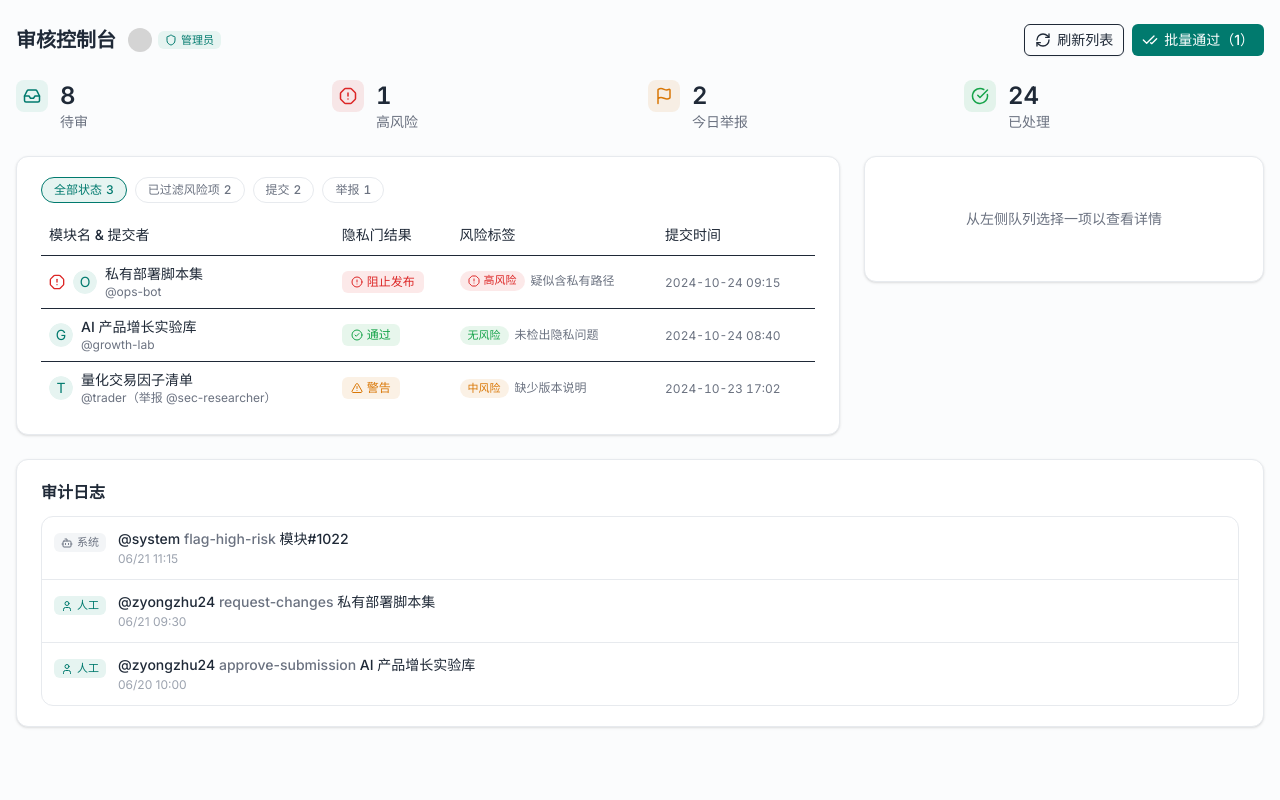
Test case: AdminConsole（PAGE-080~085 集成） › 选中 pass 行驱动详情面板并显示 Manifest 摘要与处置区
The image size is (1280, 800).
Click the text "AI 产品增长实验库" at (139, 326), box 81,316 -> 196,336
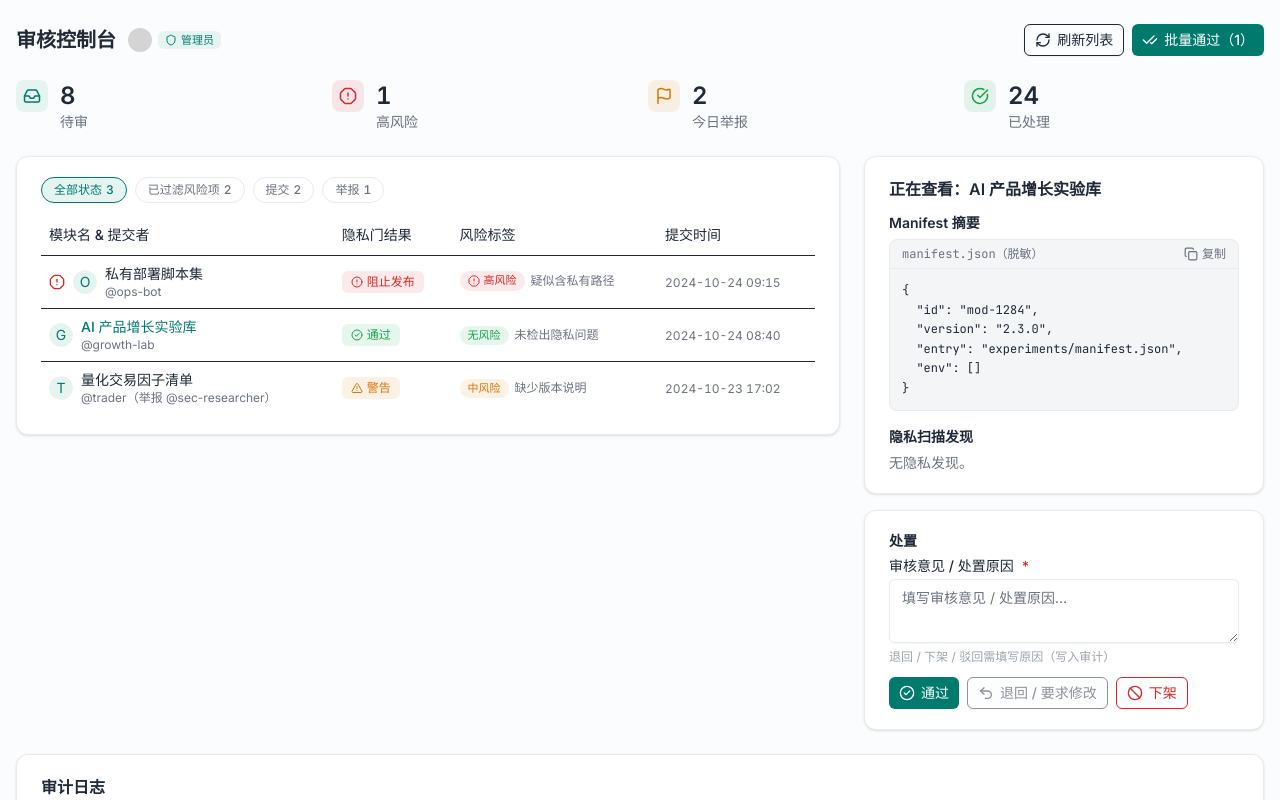
Expected: the heading "正在查看：AI 产品增长实验库" is shown, 889,179 -> 1101,199
Expected: the text "manifest.json（脱敏）" is shown, 902,246 -> 1044,262
Expected: the button "通过" is shown, 889,677 -> 959,709
